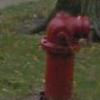Hydrant: (31, 8, 96, 99)
